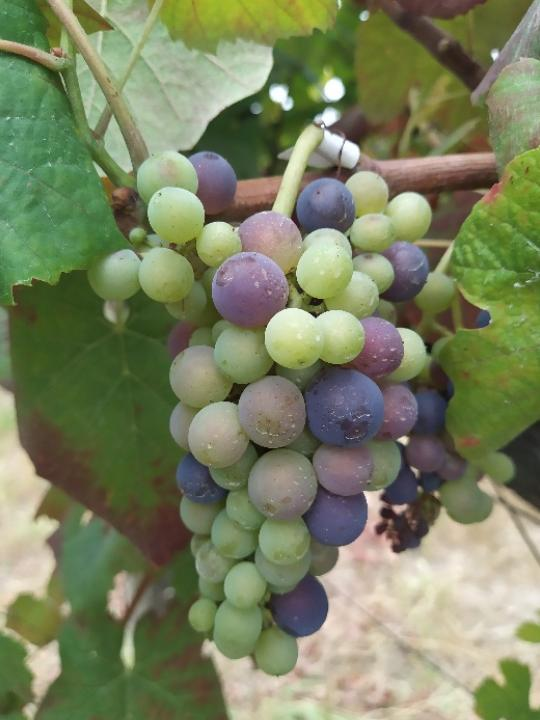grape: (83, 148, 434, 678)
